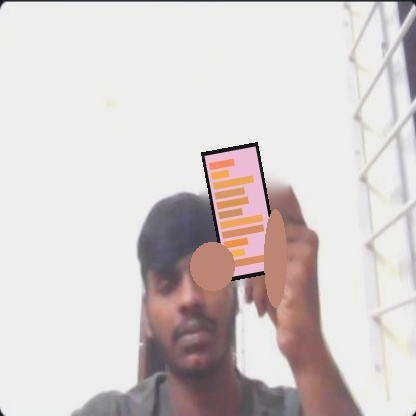cell_phone: (201, 142, 282, 282)
